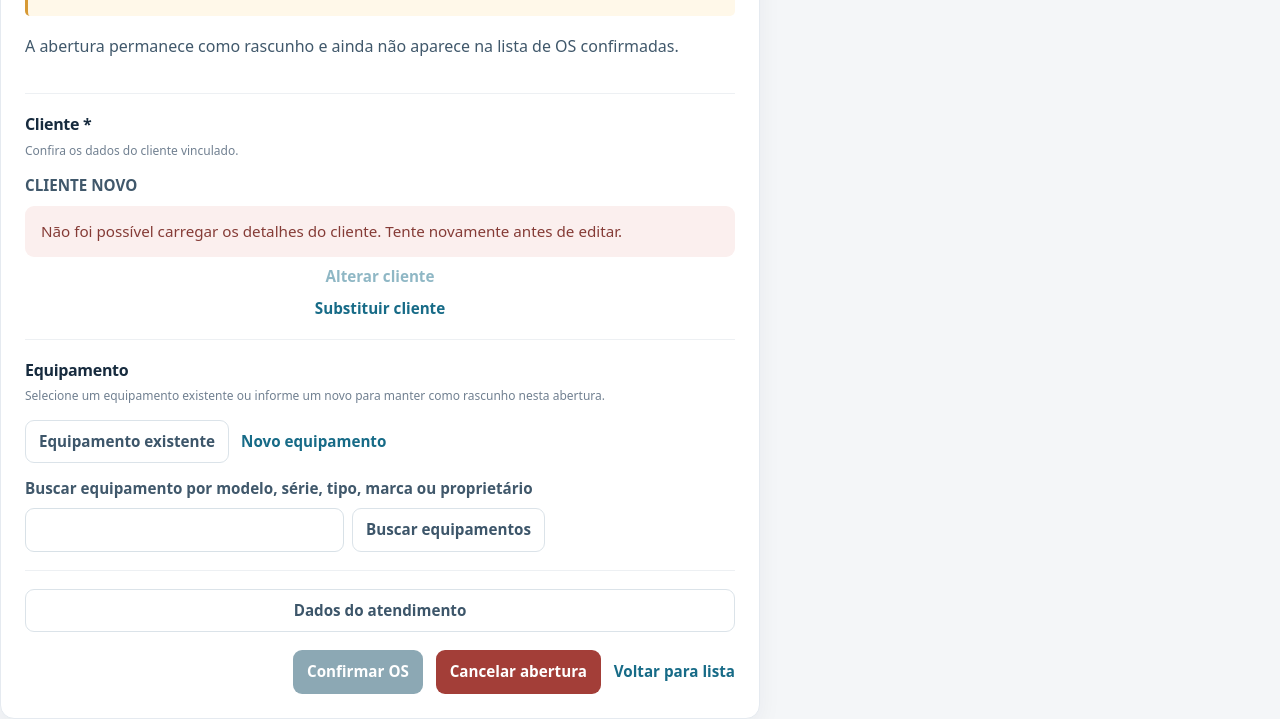
retomada mantém bloqueio de novo cliente; prioridades têm ordem e padrão aprovados
(page scrolled)
Expected: the text "CLIENTE NOVO" is shown, [25,175,137,195]
Step 1. Click the button "Dados do atendimento" → (380, 610), box [25,589,735,632]
(page scrolled)
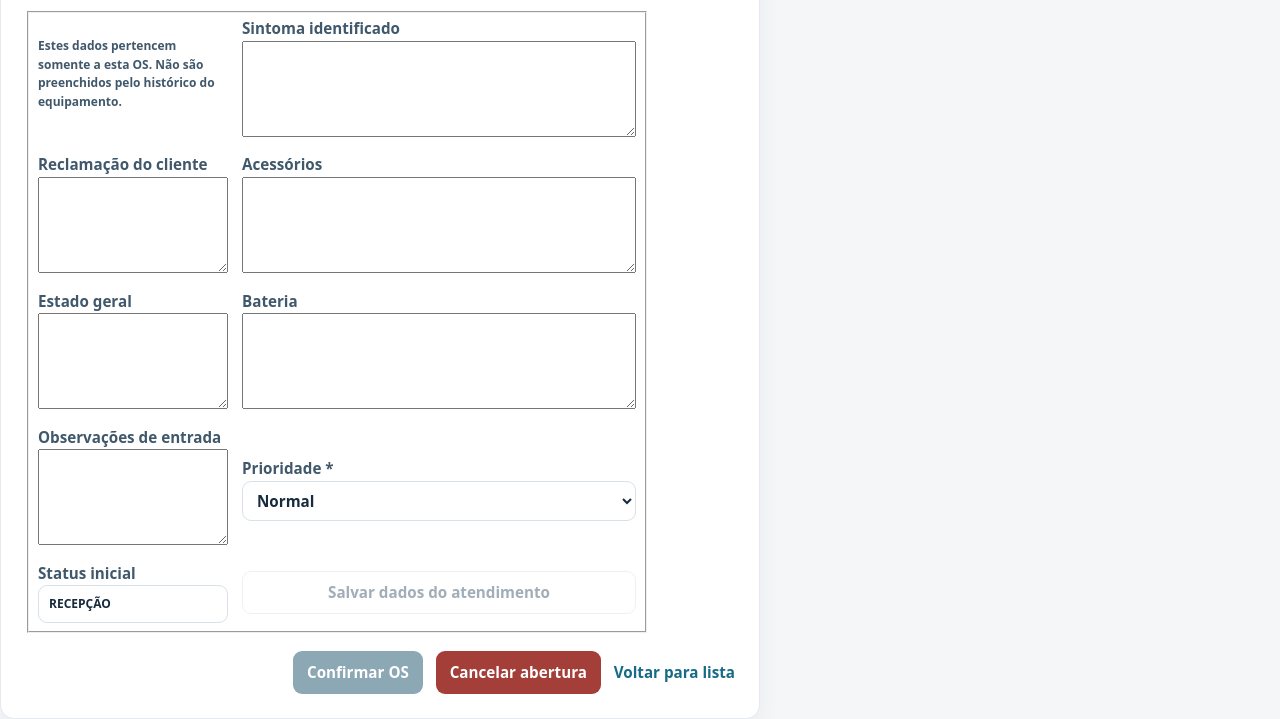
Result: the dropdown labelled "Prioridade *" shows "Normal" at [242,480,636,520]
